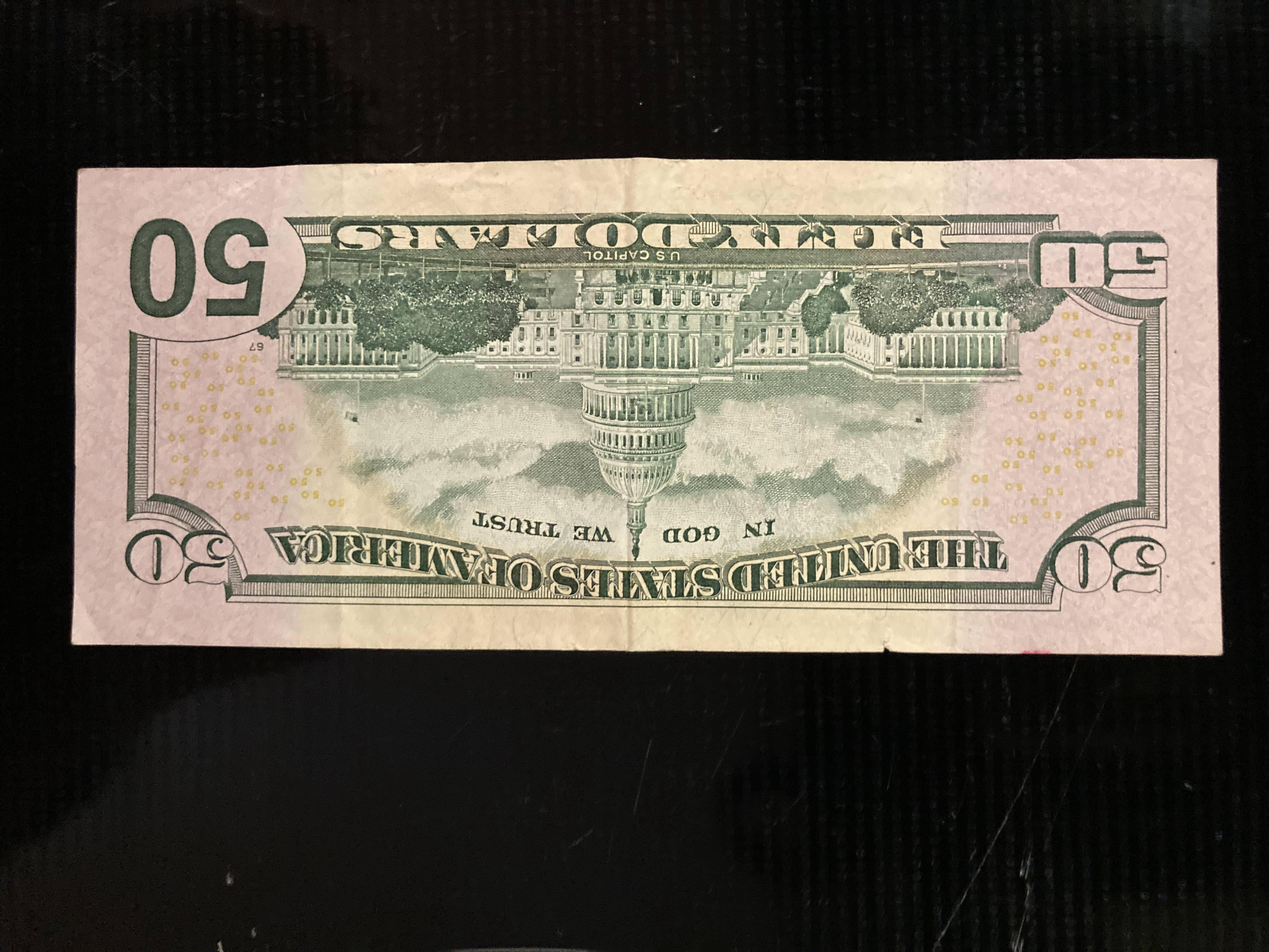fifty-back: (70, 157, 1225, 656)
